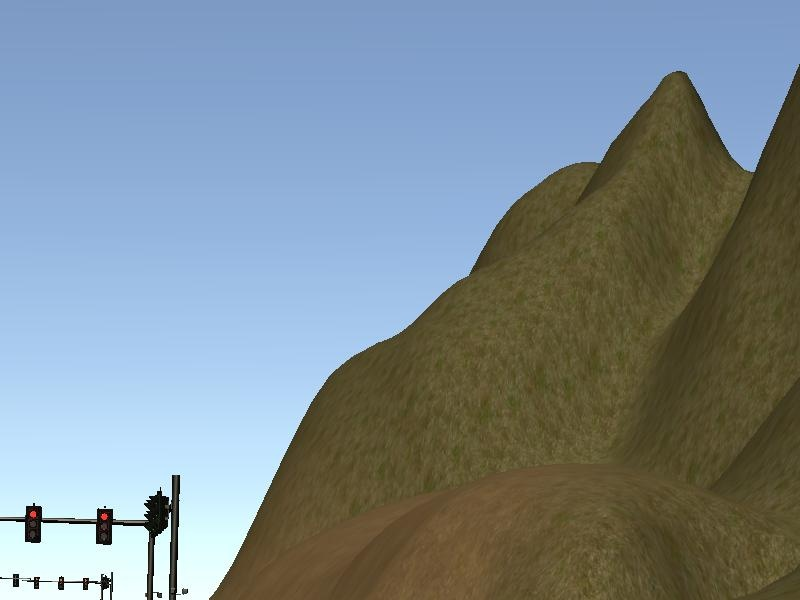red: (21, 497, 46, 550), (93, 503, 115, 550)
